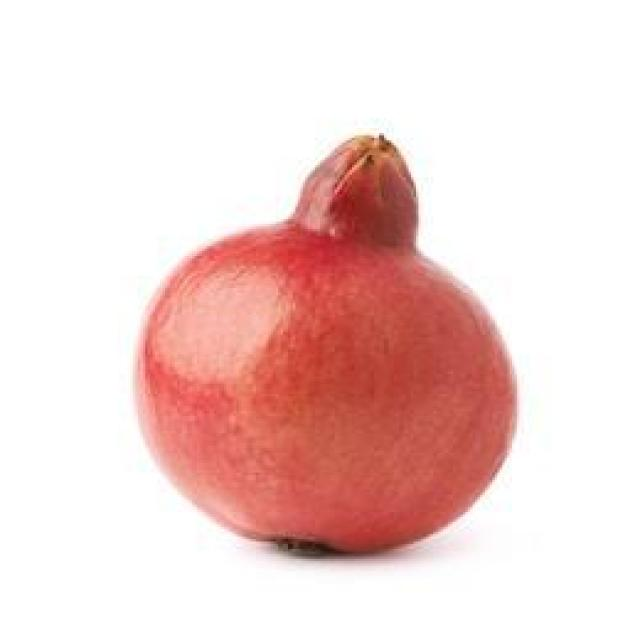Pomegranate: (130, 125, 522, 560)
